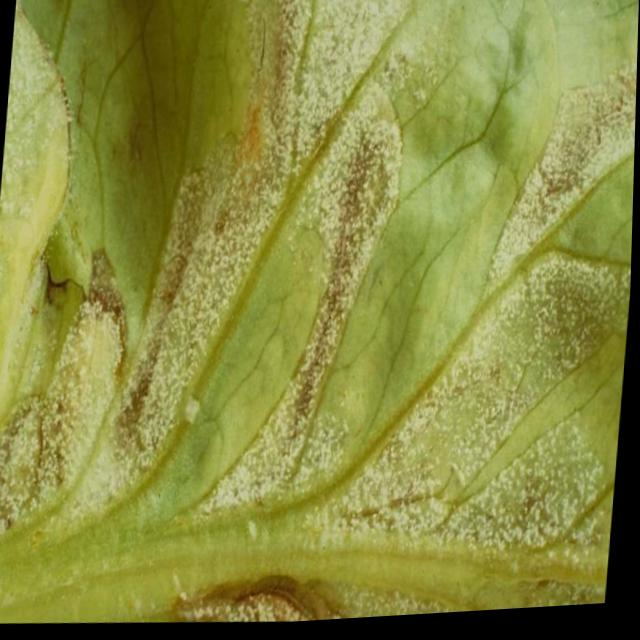Bad: (0, 0, 639, 621)
